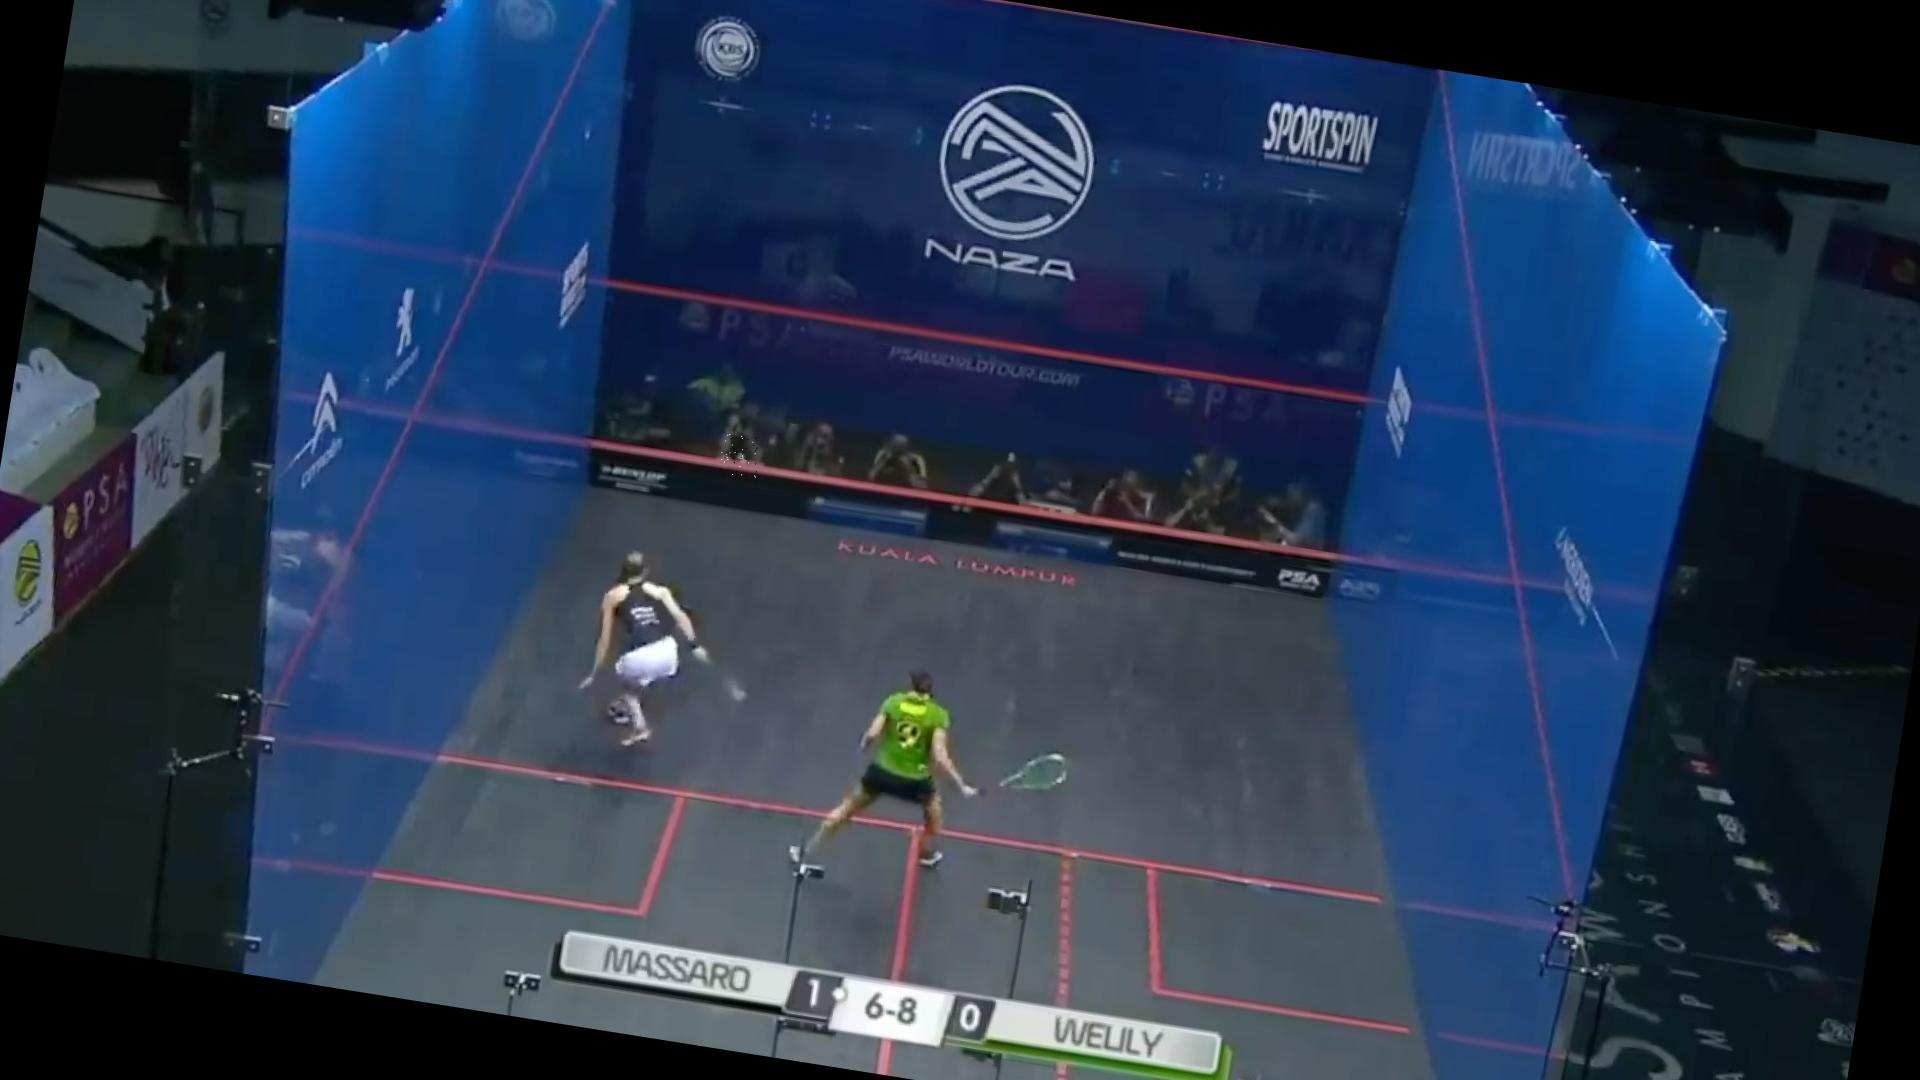Squash-Ball: (717, 433, 762, 483)
